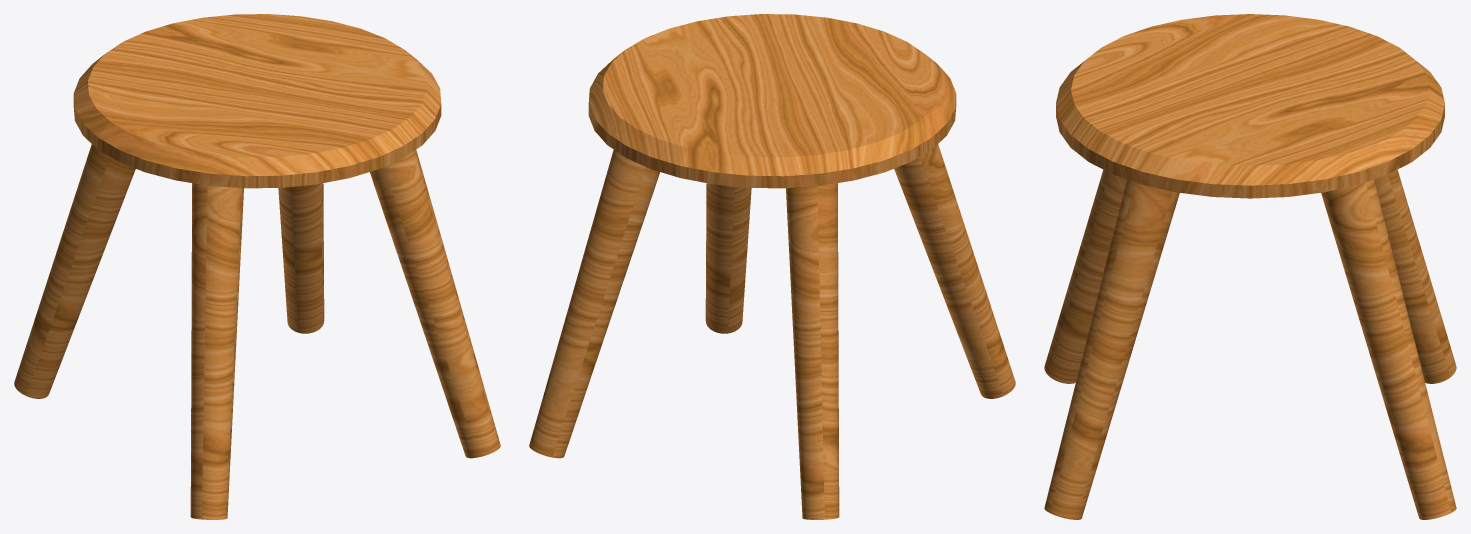
File: Stool.fbx
3 renders of one model, left to right at view 1: azimuth 30°, elevation 25°; view 2: azimuth 150°, elevation 25°; view 3: azimuth 270°, elevation 25°, orthographic. The views are drawn at different scales.
Visible parts, largest first — view 1: Stool; view 2: Stool; view 3: Stool.
Boxes of the visible parts, bbox=[...] form: Stool: bbox=[14, 14, 500, 519]; Stool: bbox=[529, 14, 1015, 519]; Stool: bbox=[1044, 14, 1456, 519].
Bounding box in the file's own units: 200 × 203 × 212.
